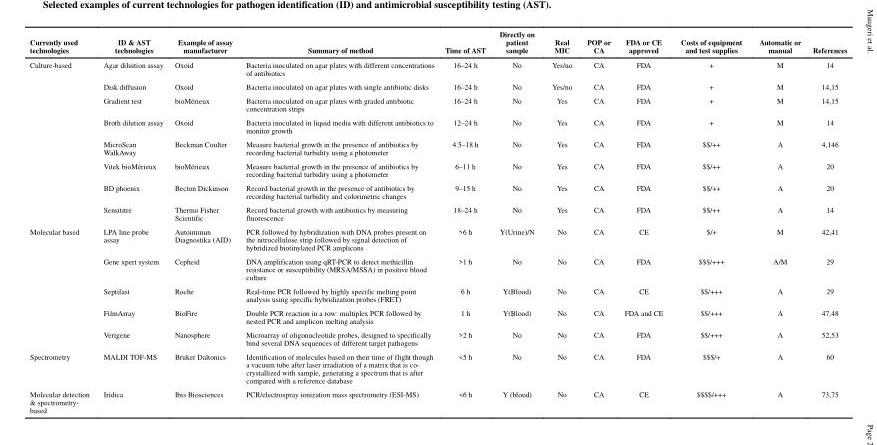table: (30, 28, 847, 414)
table column: (239, 28, 439, 414), (672, 28, 750, 414), (96, 28, 169, 414), (169, 28, 239, 414), (30, 28, 96, 414), (750, 28, 807, 414), (617, 28, 672, 414), (439, 28, 492, 414), (492, 28, 543, 414), (807, 28, 847, 414), (579, 28, 617, 414), (543, 28, 579, 414)
table column header: (30, 28, 847, 56)
table row: (30, 348, 847, 386), (30, 223, 847, 253), (30, 253, 847, 283), (30, 28, 847, 56), (30, 386, 847, 414), (30, 56, 847, 78), (30, 92, 847, 114), (30, 114, 847, 136), (30, 136, 847, 158), (30, 158, 847, 180), (30, 201, 847, 223), (30, 283, 847, 305), (30, 326, 847, 348), (30, 180, 847, 201), (30, 305, 847, 326), (30, 78, 847, 92)
table spanning cell: (30, 56, 96, 223), (30, 223, 96, 348)
